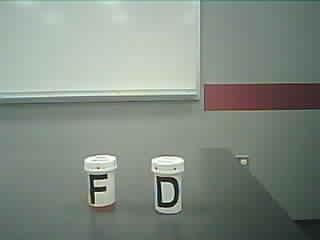Bottle D: (148, 150, 192, 222)
Bottle F: (82, 150, 121, 217)
